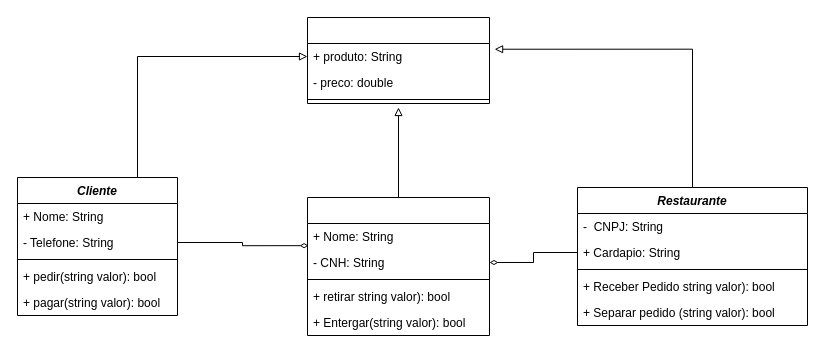
This 825x356 diagram has some shape labels left out. The shapes that lost their labels are listed below. From the top down, each one's box as (x1, y1, x2, y2) in pixels, then its label:
(306, 16, 490, 104): Pedido
(306, 196, 490, 336): Entregador
